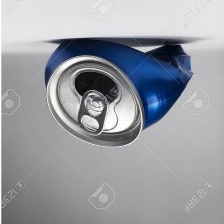can: (41, 35, 195, 148)
